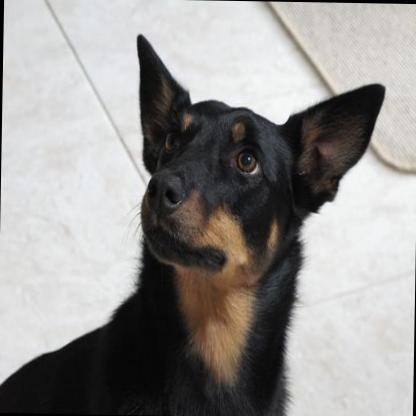kelpie: (0, 25, 387, 416)
